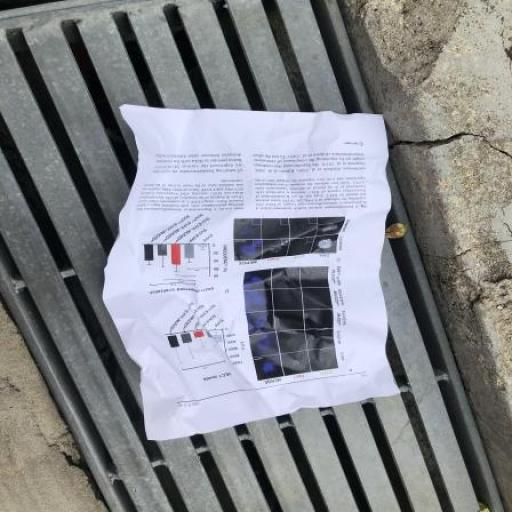paper: (74, 79, 453, 454)
